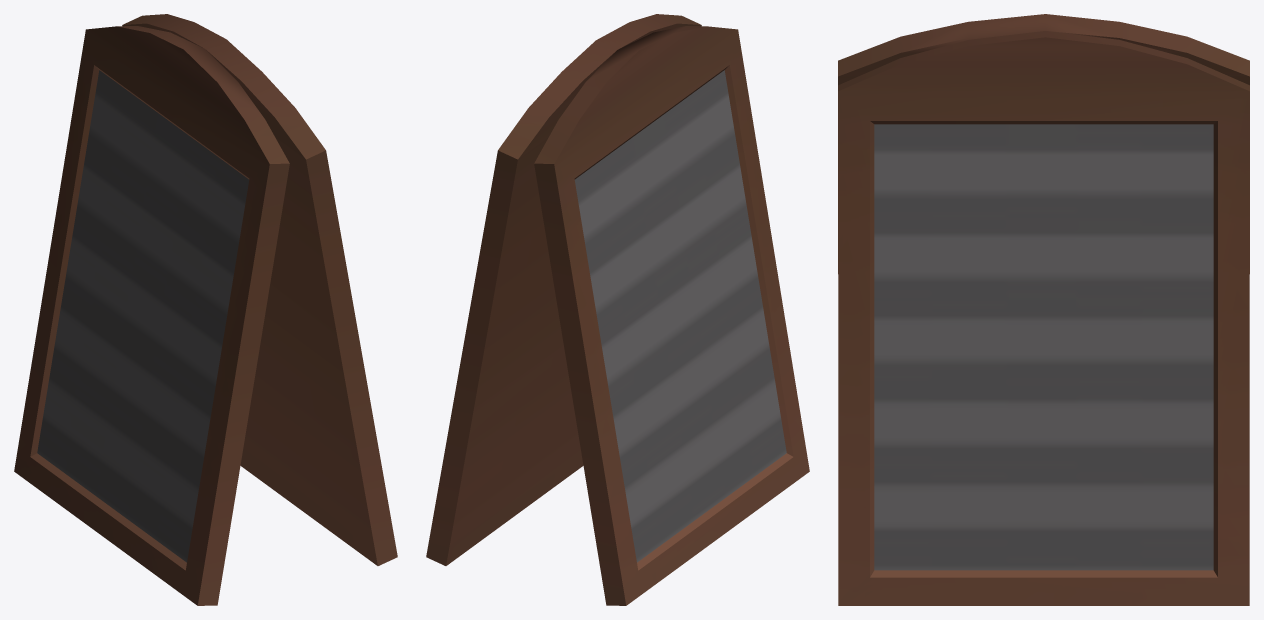
Rendered from CafeBoard_C.fbx.
The picture shows the model from 3 angles, left to right: view 1: azimuth 30°, elevation 25°; view 2: azimuth 150°, elevation 25°; view 3: azimuth 270°, elevation 25°; orthographic projection. The views are drawn at different scales.
Parts seen in each view (by area): view 1: CafeBoard_C; view 2: CafeBoard_C; view 3: CafeBoard_C.
Boxes of the visible parts, box(x1,y1,x2,y2) form: CafeBoard_C: box(14, 14, 397, 605); CafeBoard_C: box(426, 14, 809, 605); CafeBoard_C: box(838, 14, 1249, 605).
Size of the model in its own units: 31.1 by 70.34 by 49.5.
